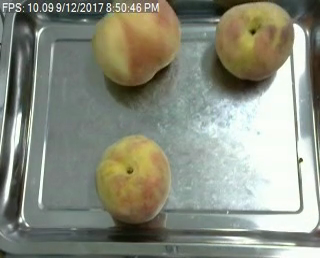Peach: (91, 0, 182, 87), (95, 134, 171, 224), (214, 0, 295, 80)
